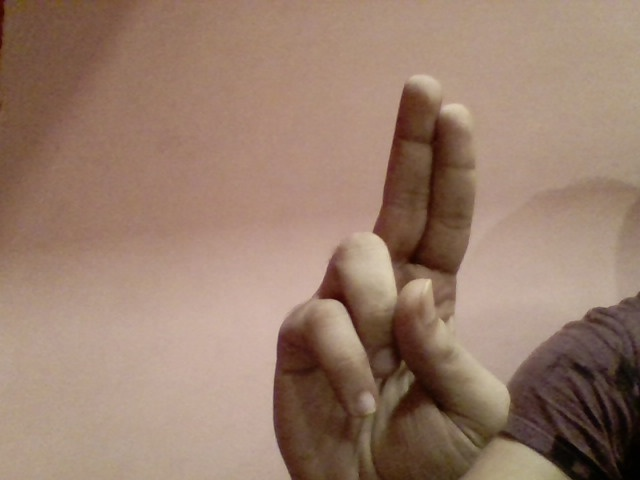u: (253, 70, 523, 480)
